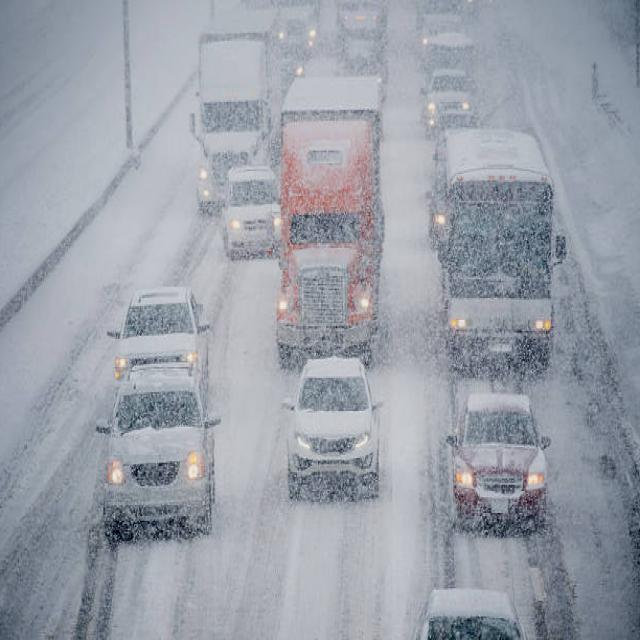Vehicle: (428, 159, 580, 376), (274, 88, 396, 345), (100, 364, 221, 541), (281, 348, 394, 527), (445, 390, 555, 559), (179, 34, 249, 195), (222, 153, 276, 268), (417, 62, 472, 127)
